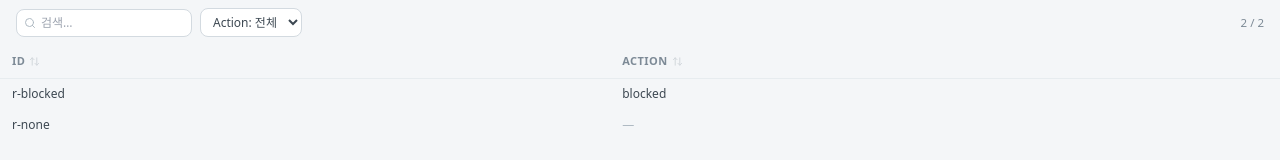
Test: MetricTable — empty facetValues fallback › still filters correctly on a real facet value
Select "blocked" in the dropdown named "Action 필터" at (251, 22), box [200,8,302,37]
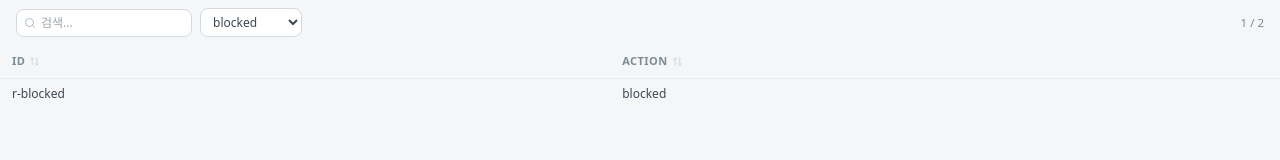
Expected: the text "r-blocked" is shown, [0,78,610,108]
Expected: the text "r-none" is gone
